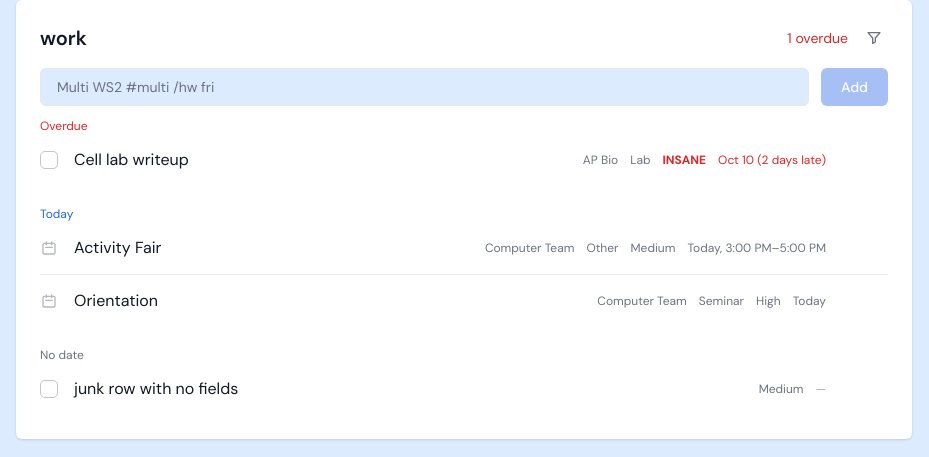
Test: ticking an item moves it to Done without waiting on the server
Click the checkbox named "Mark Cell lab writeup as done". click: (49, 160)
box: [40, 151, 58, 169]
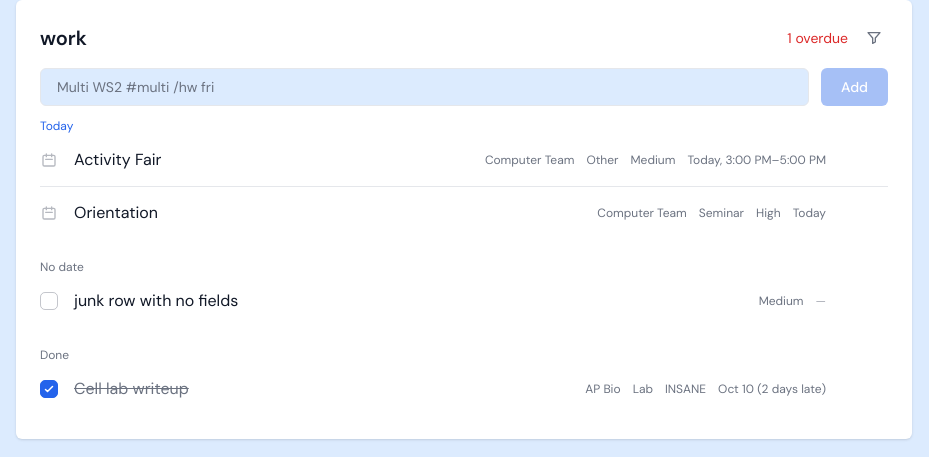
Now the text "Done" is shown, box [40, 347, 69, 363]
